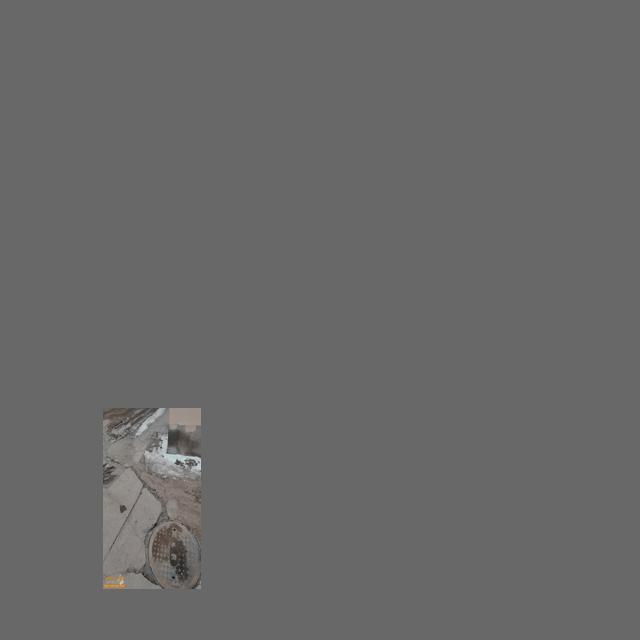circle: (132, 514, 200, 587)
